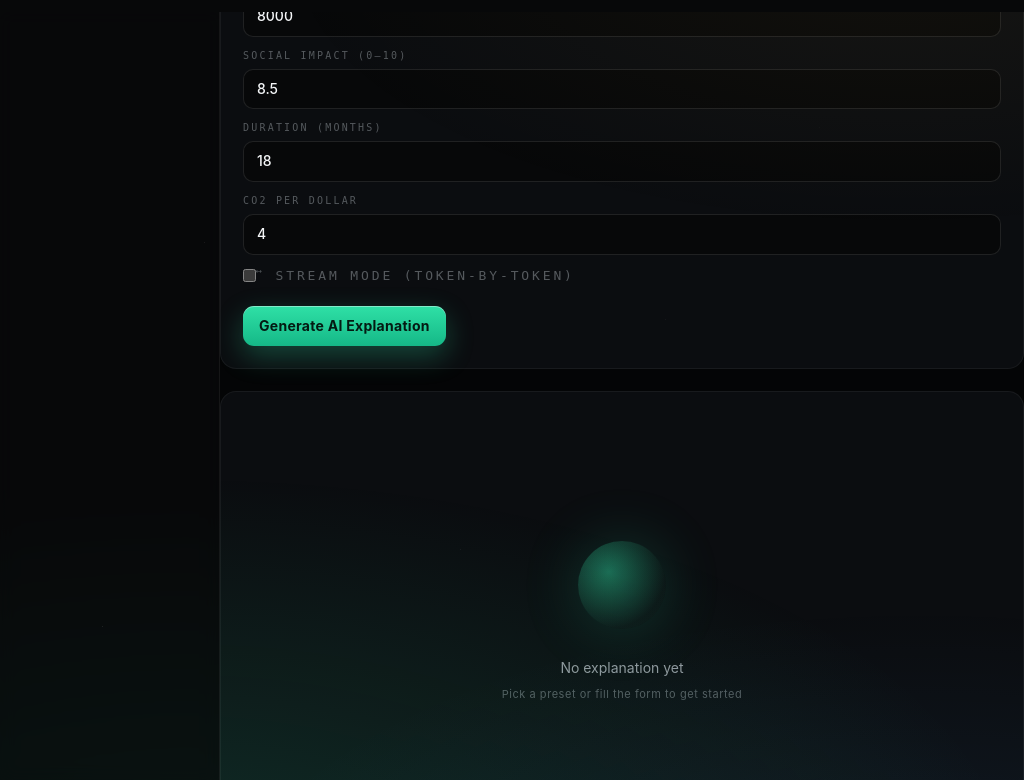
Test: CopilotPage (production path) › shows the model as unknown even though the answer carries the default v5 (F019)
(page scrolled)
Click the button "Generate AI Explanation" at (344, 326), box [243,306,446,346]
(page scrolled)
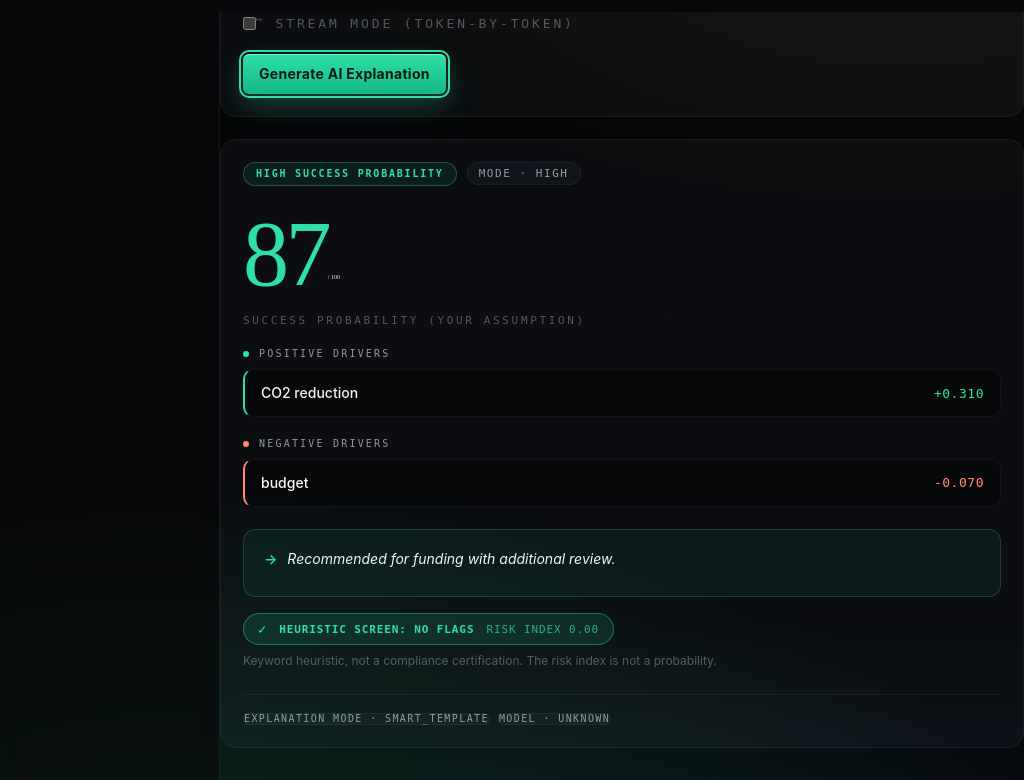
Now the text "Recommended for funding with additional review." is shown, box [287,548,615,570]
Now the text "Model · unknown" is shown, box [498,713,611,725]
